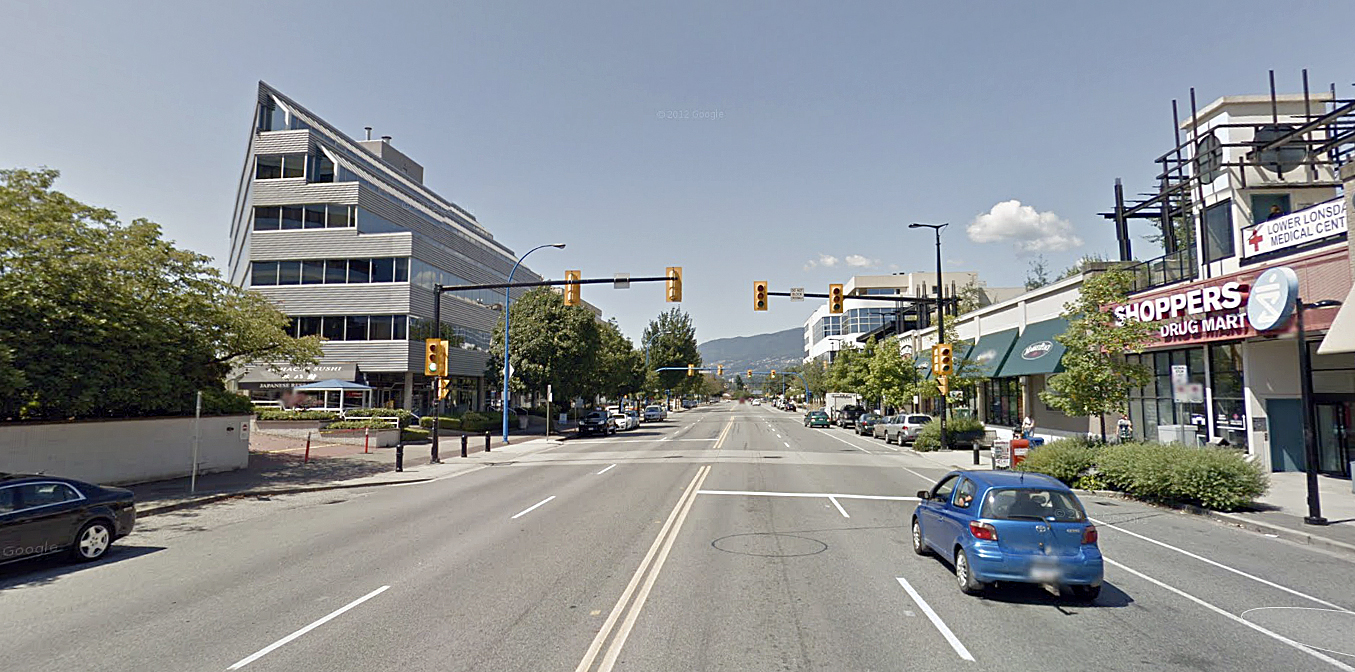traffic_light: (423, 337, 444, 378), (827, 282, 845, 315), (752, 280, 769, 313), (937, 343, 954, 376)
